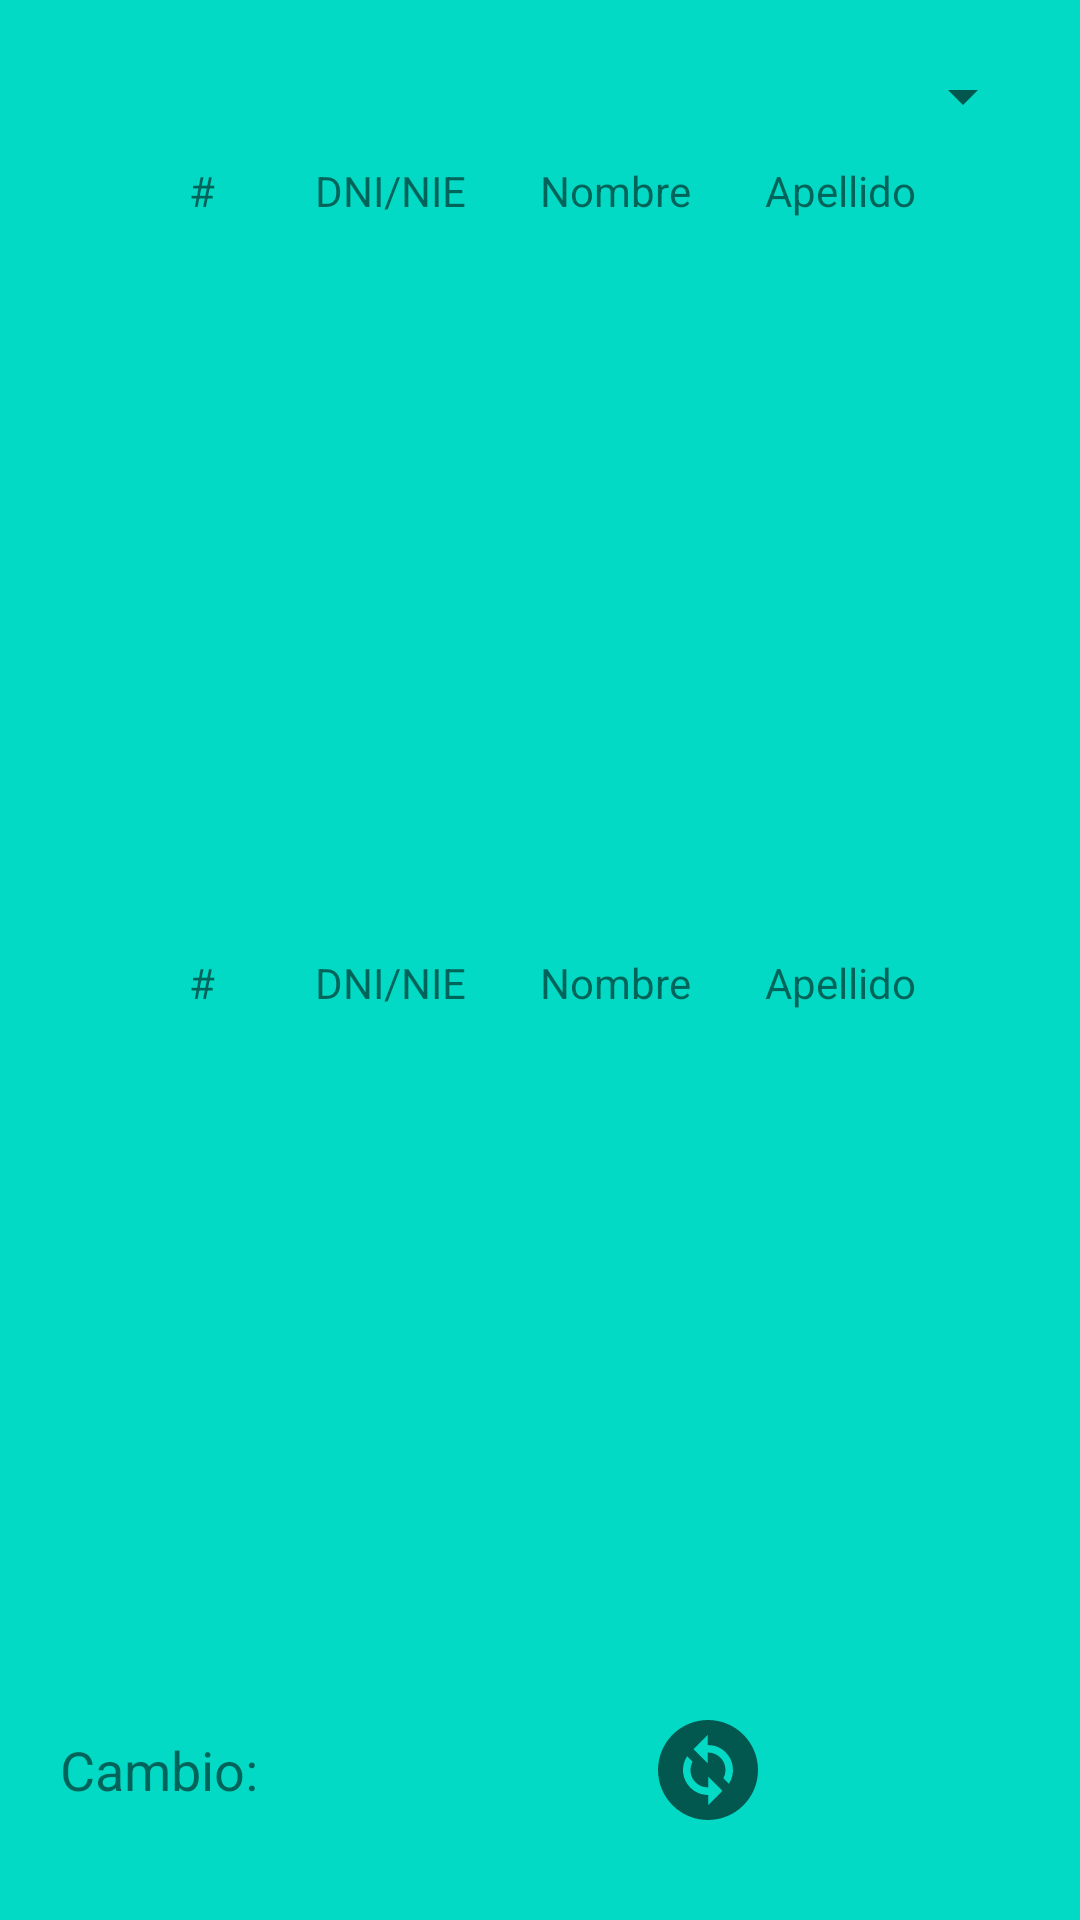

Where to tap for icons on this 1080 x 1920 app screen, as (x,y):
change circle: (708,1770)
